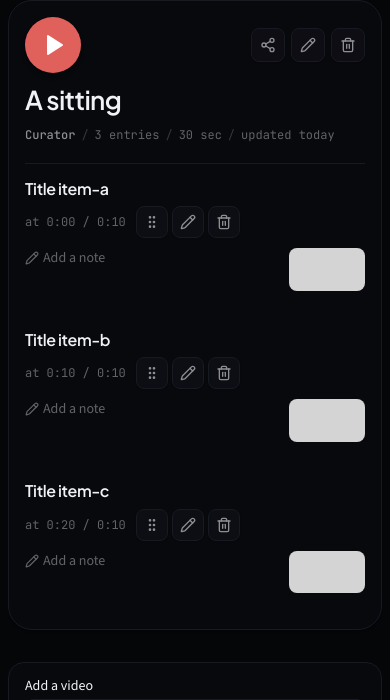
Scenario: CollectionDetail playback while the collection is edited › plays the sitting through after the entry on screen is deleted
What coordinates should you click on to do the following:
click the button named "Play the whole collection"
I would click on:
 (53, 45)
Its box is [25,17,81,73].
Wait 4002 ms
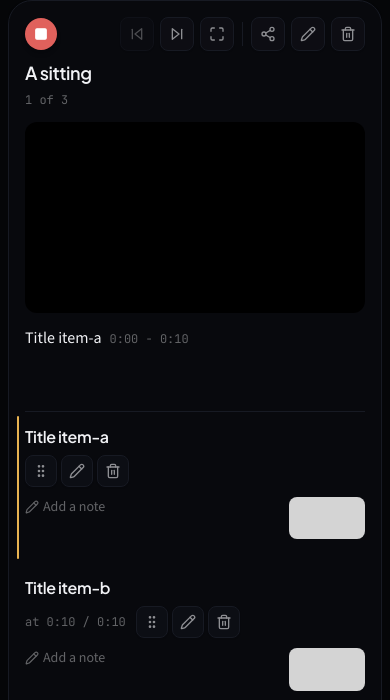
What coordinates should you click on to do the following:
click the 1st button named "Remove from collection"
I would click on:
 (113, 471)
Its box is [97,455,129,487].
Wait 45001 ms
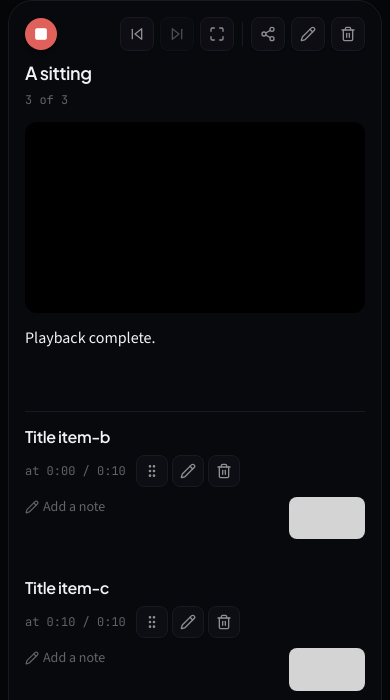
Check: the text "Playback complete." is shown, box [25,327,156,349]
